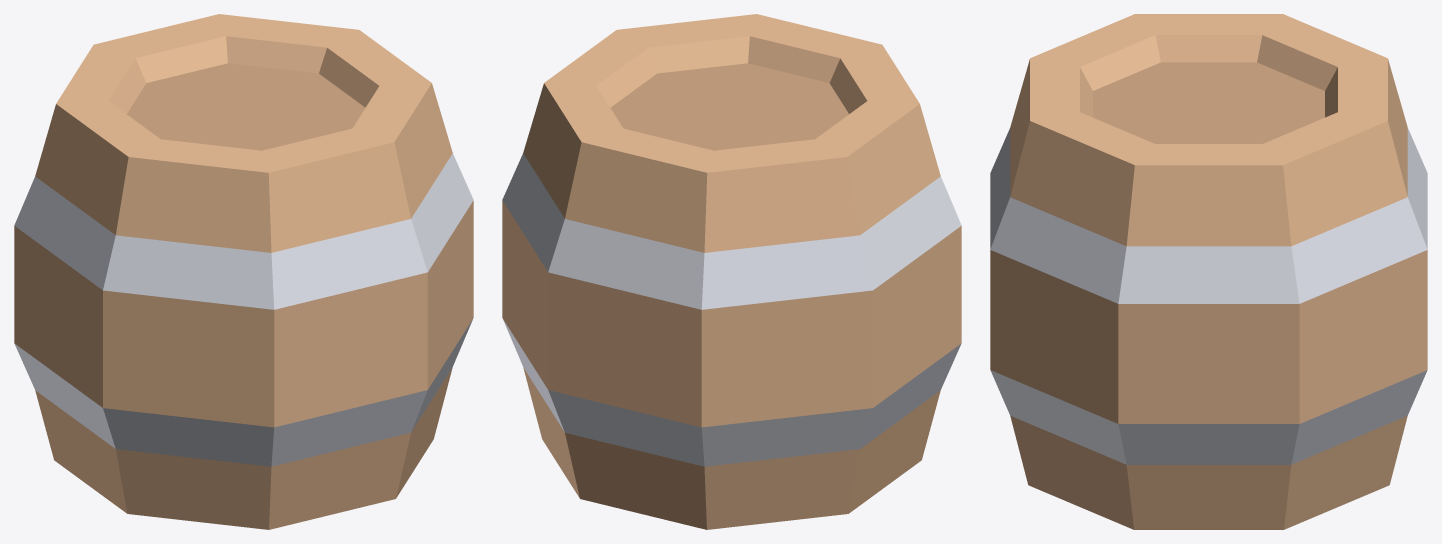
The model's file is barrel.glb.
3 views of the same model, side by side, from view 1: azimuth 30°, elevation 25°; view 2: azimuth 150°, elevation 25°; view 3: azimuth 270°, elevation 25° (orthographic). The views are drawn at different scales.
Visible parts, largest first — view 1: barrel(Clone); view 2: barrel(Clone); view 3: barrel(Clone).
Part boxes in pixels (box(x1,y1,x2,y2)): barrel(Clone): box(14, 14, 473, 529); barrel(Clone): box(502, 14, 961, 529); barrel(Clone): box(990, 14, 1427, 529).
Bounding box in the file's own units: 0.4358 × 0.4002 × 0.4358.
